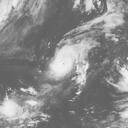cyclone: (48, 49, 77, 77)
